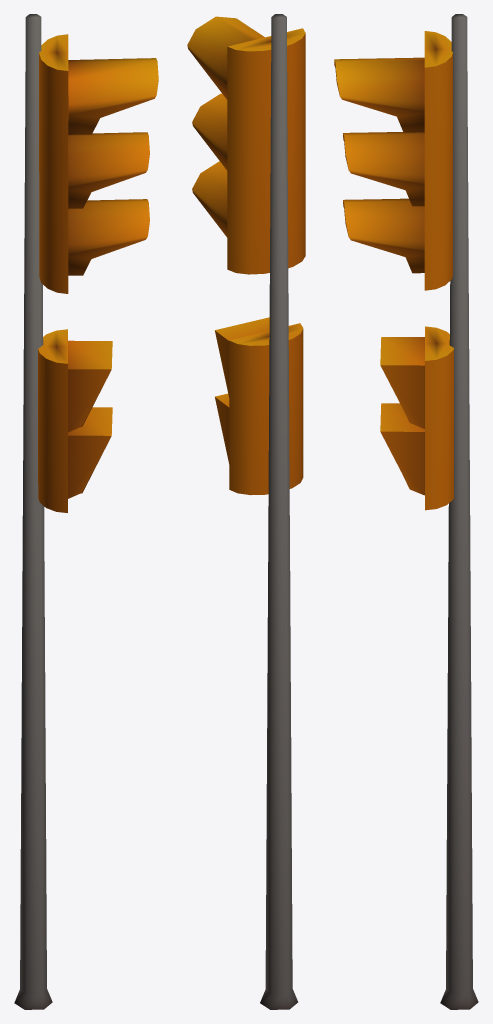
The model's file is MediumTrafficLight_SameSide.fbx.
3 views of the same model, side by side, from view 1: azimuth 90°, elevation 25°; view 2: azimuth 210°, elevation 25°; view 3: azimuth 270°, elevation 25° (orthographic).
Parts seen in each view (by area): view 1: MediumTrafficLight_SameSide; view 2: MediumTrafficLight_SameSide; view 3: MediumTrafficLight_SameSide.
Part boxes in pixels (x1,y1,x2,y2): MediumTrafficLight_SameSide: (14, 14, 158, 1009); MediumTrafficLight_SameSide: (187, 14, 305, 1009); MediumTrafficLight_SameSide: (334, 14, 478, 1009).
Size of the model in its own units: 36.98 by 462 by 61.29.
